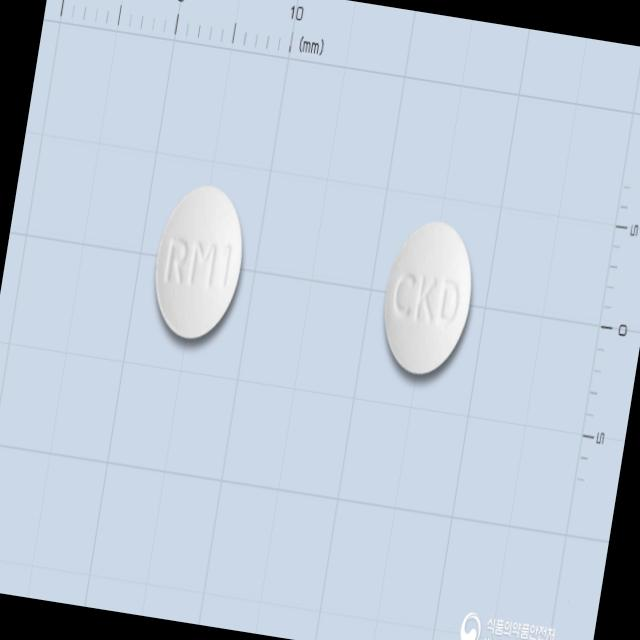Rheumide Tab: (374, 212, 484, 382), (145, 180, 254, 346)
